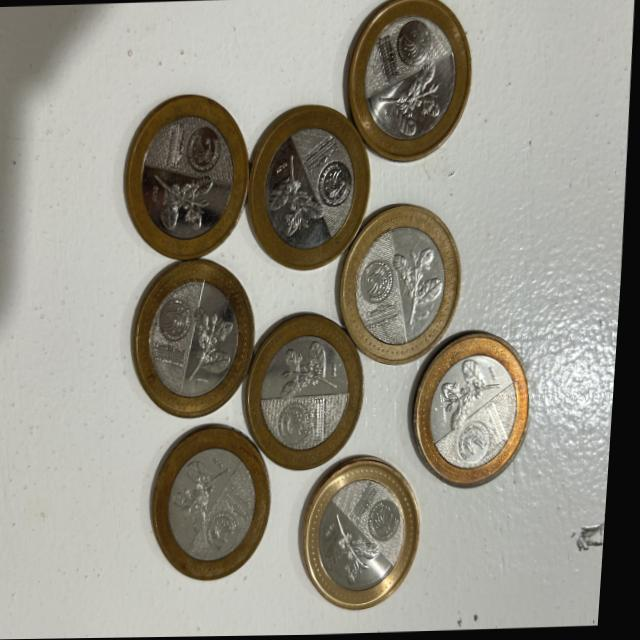20_New_Back: (268, 157, 330, 238), (324, 511, 390, 587), (378, 67, 447, 137), (394, 246, 449, 328), (443, 360, 509, 428), (148, 167, 217, 231), (278, 337, 345, 401), (189, 304, 240, 383), (181, 452, 236, 522)
